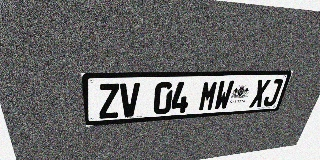0: (153, 82, 174, 115)
4: (170, 81, 191, 114)
J: (262, 79, 284, 107)
M: (198, 81, 219, 111)
V: (120, 83, 140, 117)
W: (213, 80, 235, 110)
X: (249, 79, 271, 108)
Z: (98, 83, 119, 119)
